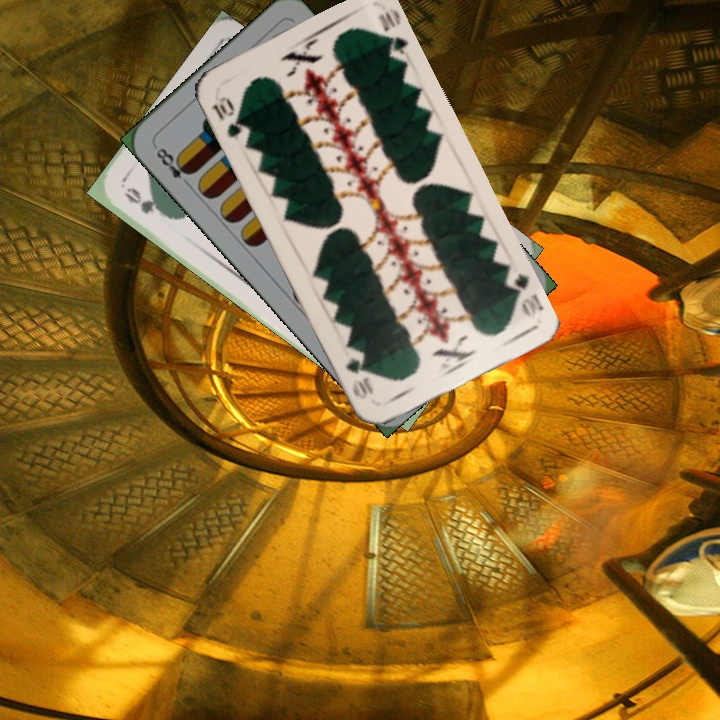E8: (150, 141, 196, 190)
G10: (501, 268, 546, 321), (206, 92, 247, 141)
GO: (121, 183, 172, 221)
